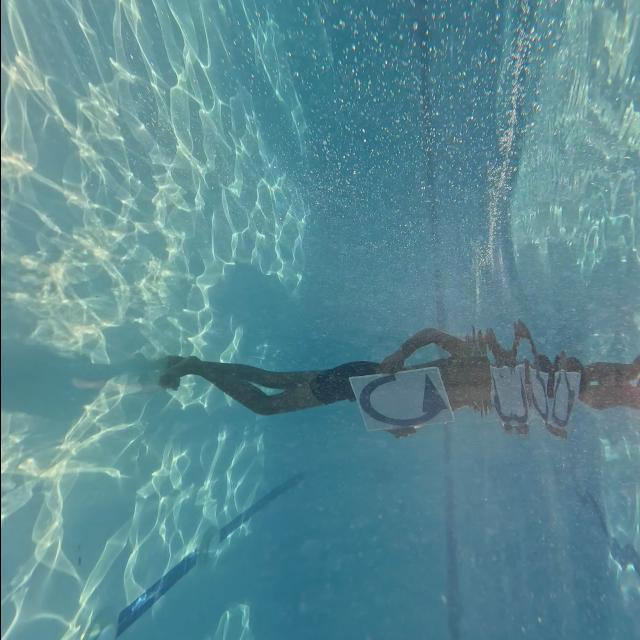blue_side: (350, 365, 454, 432)
